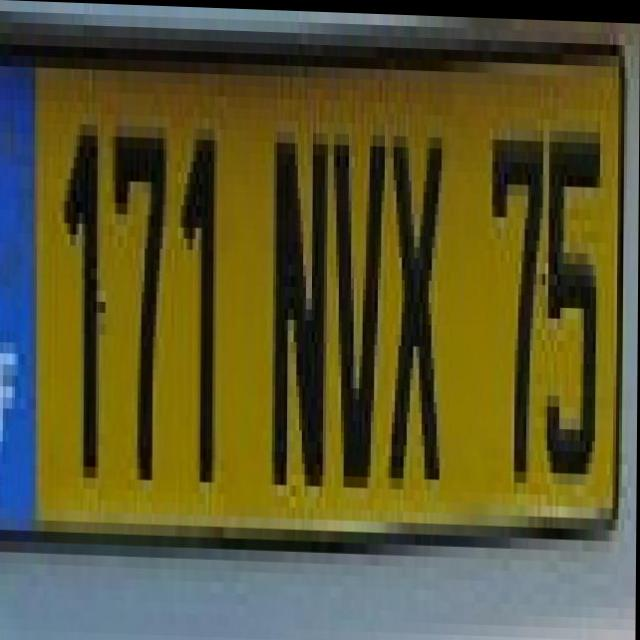1: (173, 115, 227, 526), (60, 101, 107, 511)
5: (541, 93, 604, 504)
7: (488, 69, 547, 491), (111, 114, 164, 490)
N: (266, 85, 335, 496)
V: (332, 87, 383, 519)
X: (389, 99, 451, 510)
